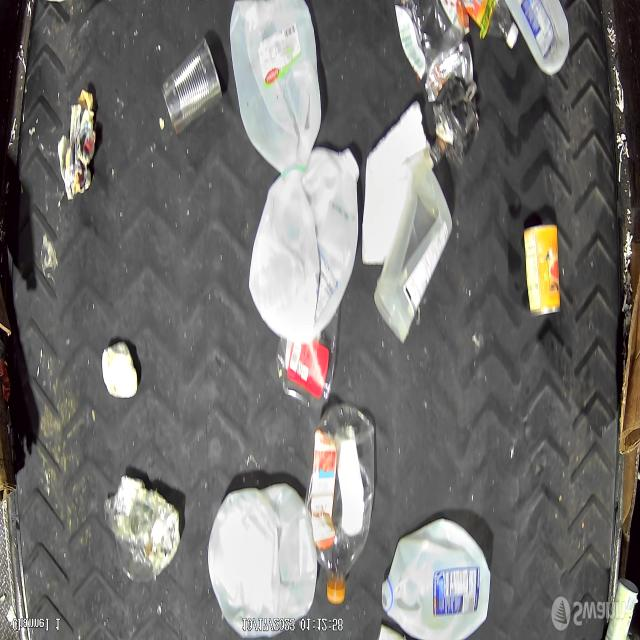can: (161, 37, 224, 137), (525, 224, 560, 316)
milk_jug: (251, 152, 359, 340), (206, 482, 317, 634), (229, 1, 323, 174), (382, 516, 491, 640)
plastic_bottle: (308, 403, 375, 604)
